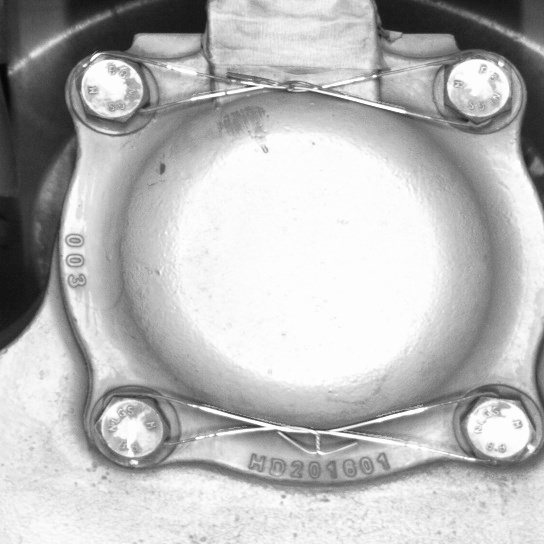IronWire: (80, 382, 541, 479), (62, 48, 528, 136)
Screw: (81, 383, 182, 480), (450, 382, 541, 478), (63, 47, 159, 135), (434, 49, 526, 136)
